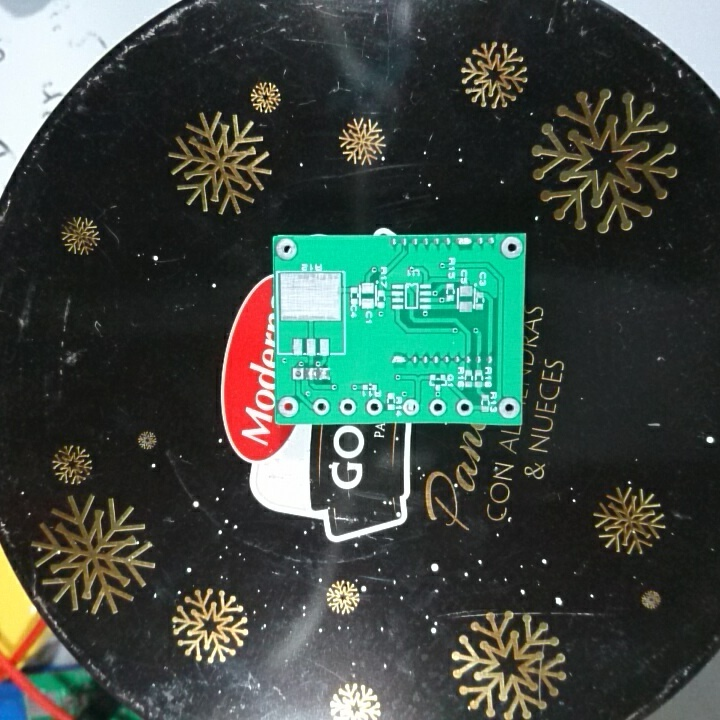F: (274, 236, 301, 265), (498, 235, 524, 263), (276, 394, 300, 422), (497, 397, 521, 420), (426, 398, 450, 419), (455, 396, 475, 421), (336, 396, 359, 417), (401, 396, 421, 420), (364, 398, 385, 418), (312, 397, 332, 417), (288, 366, 306, 383)
P: (387, 352, 410, 370), (455, 234, 476, 250)
